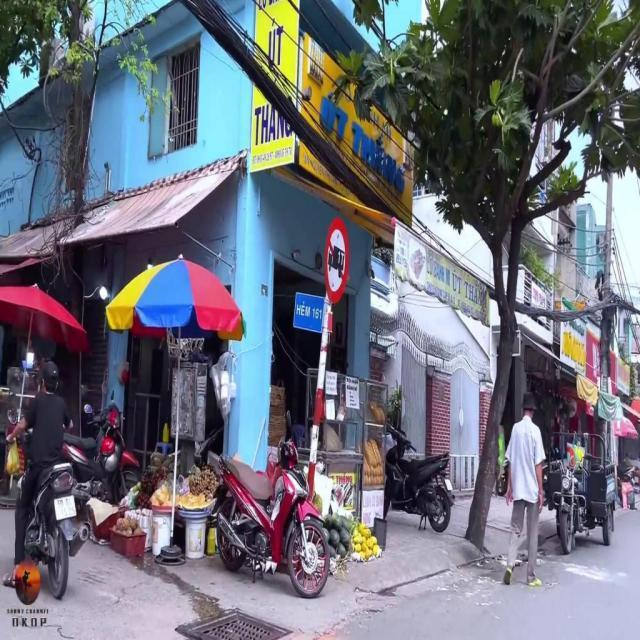106-cam-oto-tai: (324, 218, 350, 304)
